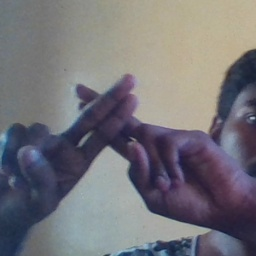F: (37, 63, 183, 189)
